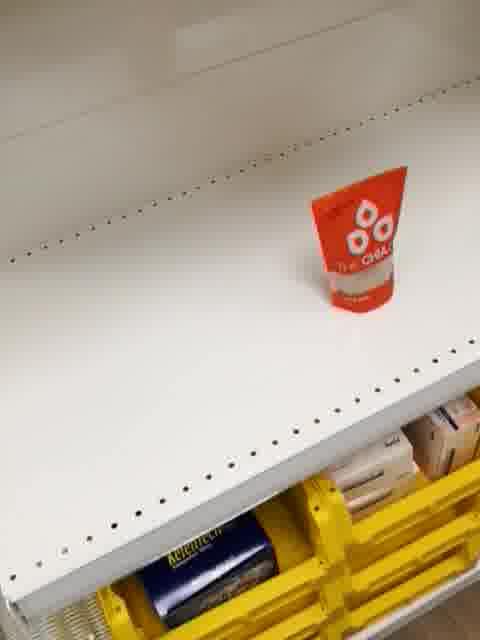whitechia: (309, 166, 408, 315)
